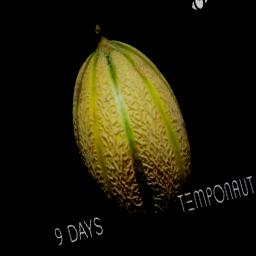Melon Ripe: (42, 6, 211, 240)
